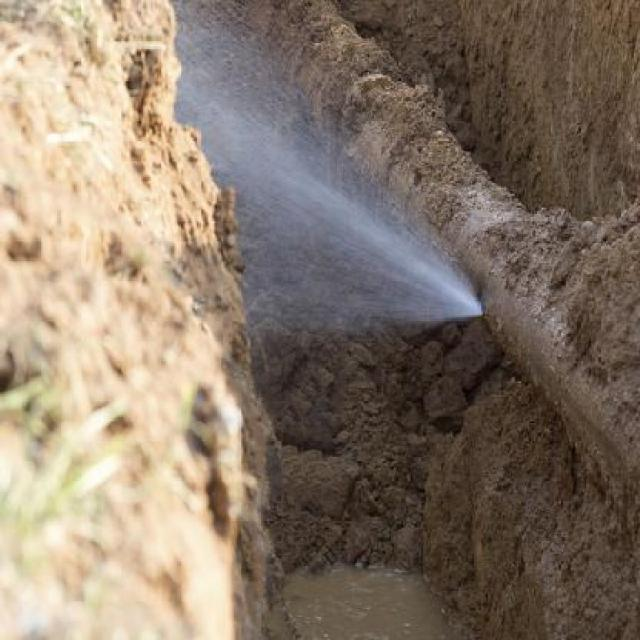leak: (176, 2, 486, 339)
